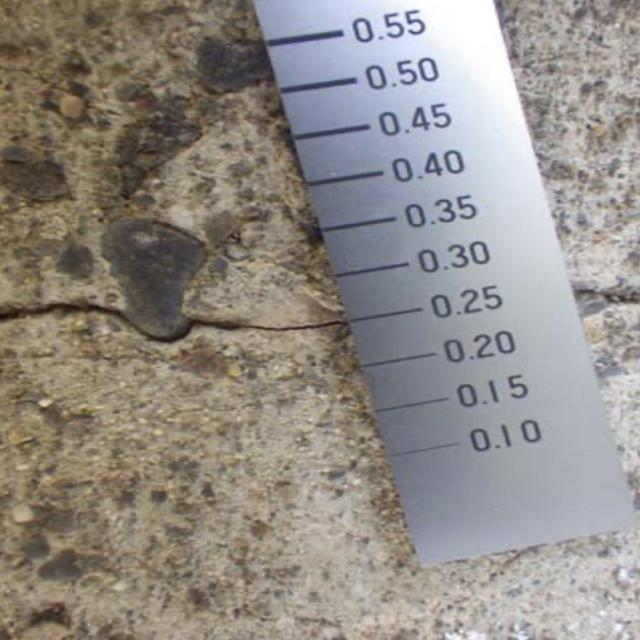crack: (14, 279, 349, 377)
